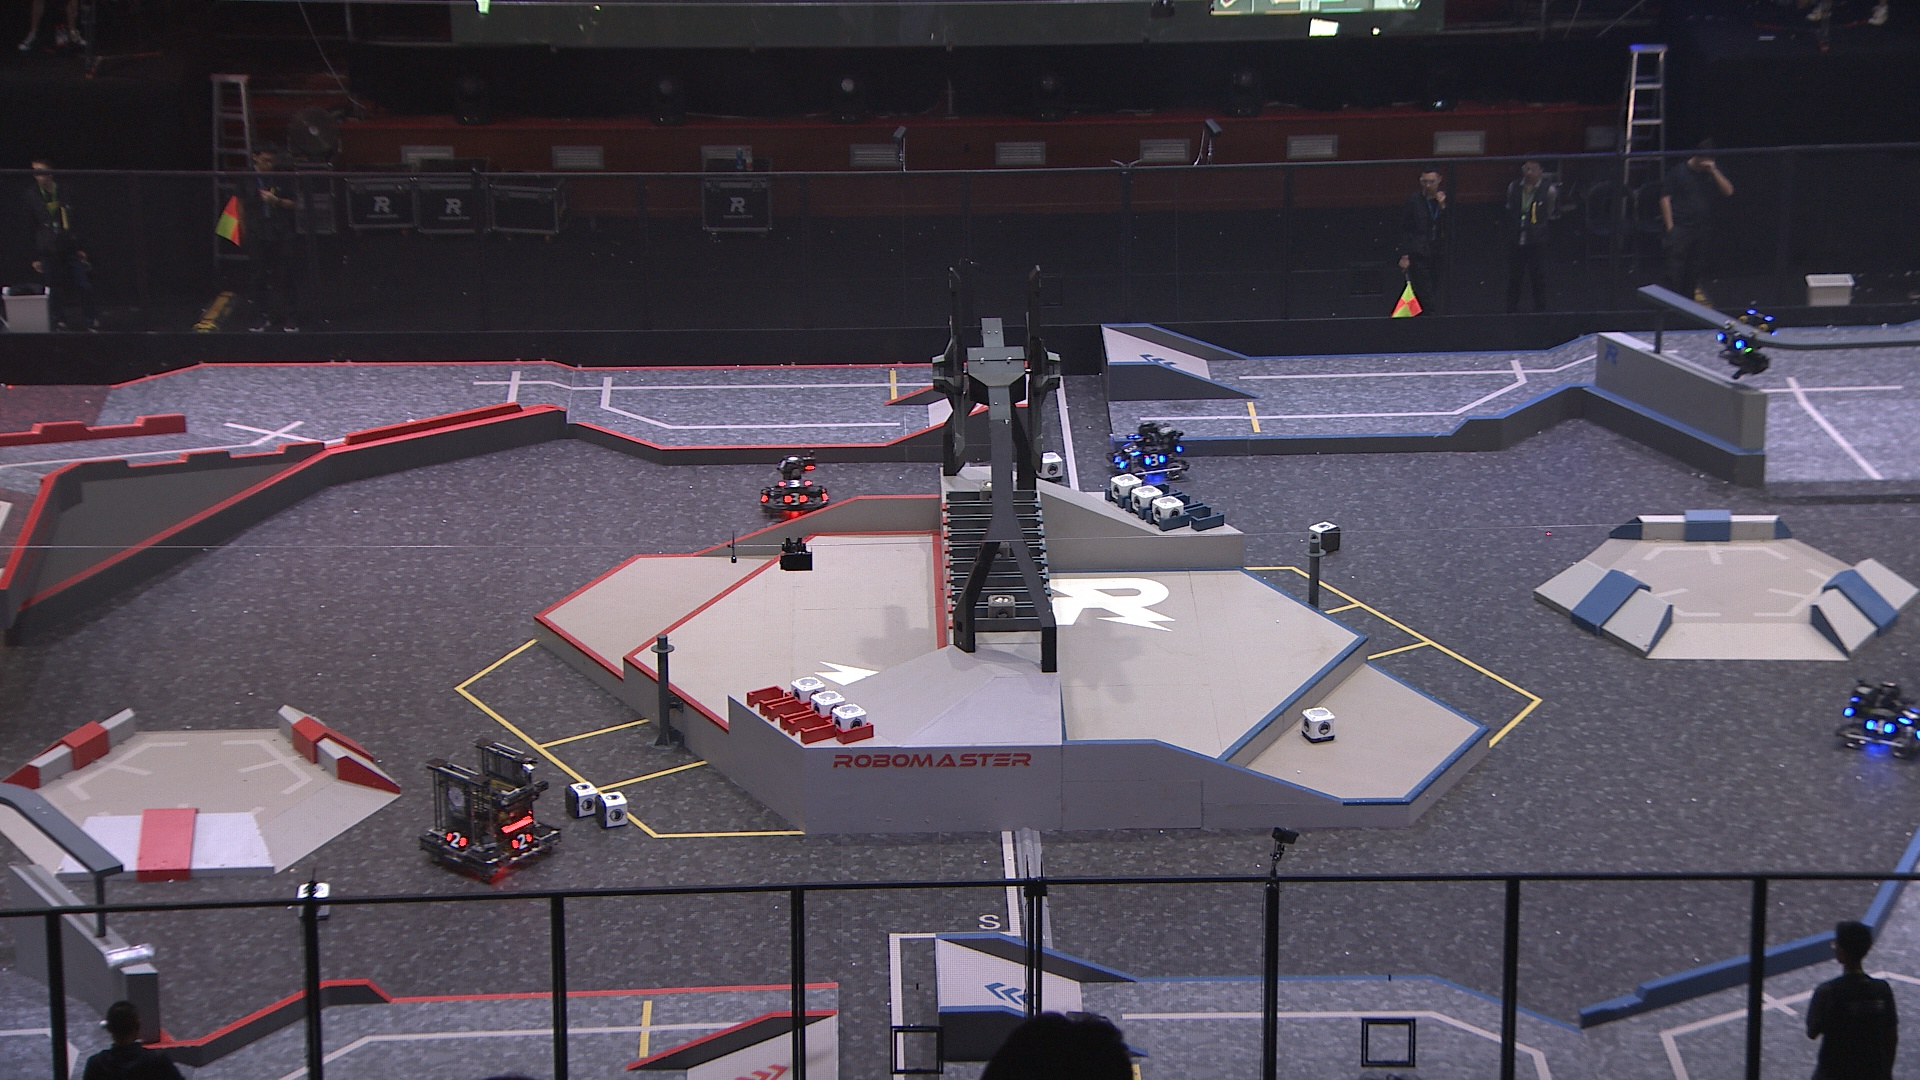armor: (1865, 713, 1896, 738), (444, 828, 469, 851), (1714, 332, 1745, 351), (775, 476, 814, 491), (1896, 707, 1920, 727), (512, 829, 533, 849), (1120, 438, 1139, 458), (785, 491, 808, 506), (1143, 451, 1167, 467), (1112, 450, 1130, 469)
car: (415, 733, 562, 880), (1836, 676, 1920, 761), (1101, 418, 1191, 483), (756, 455, 831, 514)
watcher: (1712, 295, 1779, 382)
